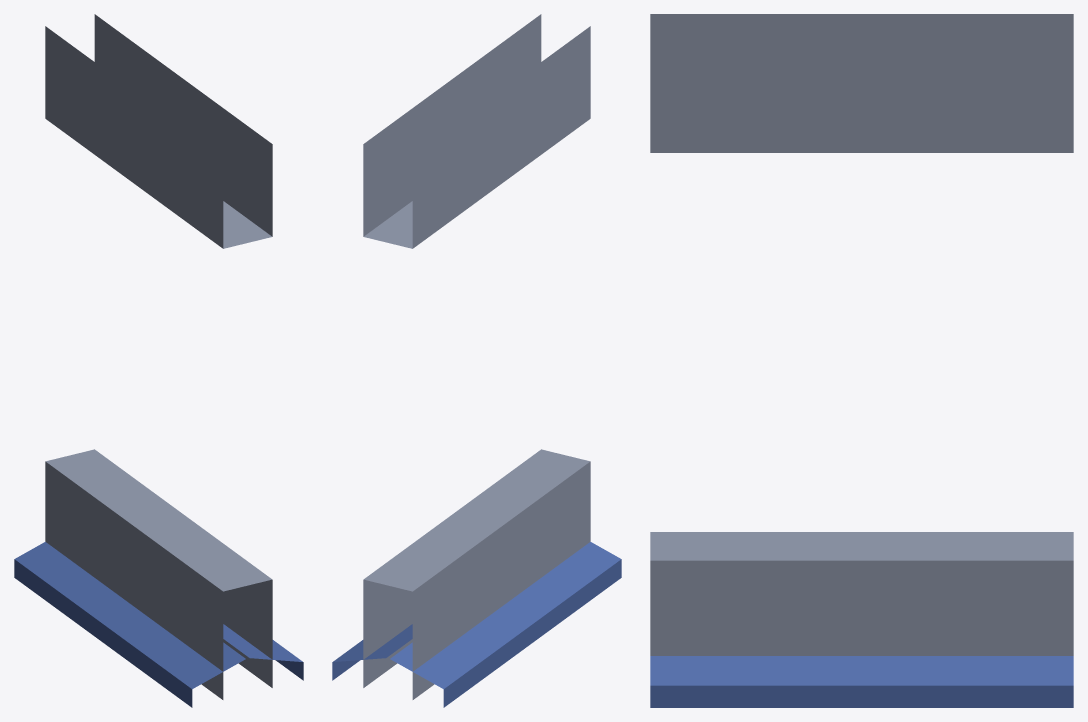
The model's file is windowed-wall-middle.fbx.
3 renders of one model, left to right at view 1: azimuth 30°, elevation 25°; view 2: azimuth 150°, elevation 25°; view 3: azimuth 270°, elevation 25°, orthographic. The views are drawn at different scales.
Visible parts, largest first — view 1: windowed-wall-middle; view 2: windowed-wall-middle; view 3: windowed-wall-middle.
Boxes of the visible parts, left/top/right/bottom form: windowed-wall-middle: left=14, top=14, right=303, bottom=707; windowed-wall-middle: left=332, top=14, right=621, bottom=707; windowed-wall-middle: left=650, top=14, right=1073, bottom=707.
Size of the model in its own units: 72.26 by 338 by 200.
